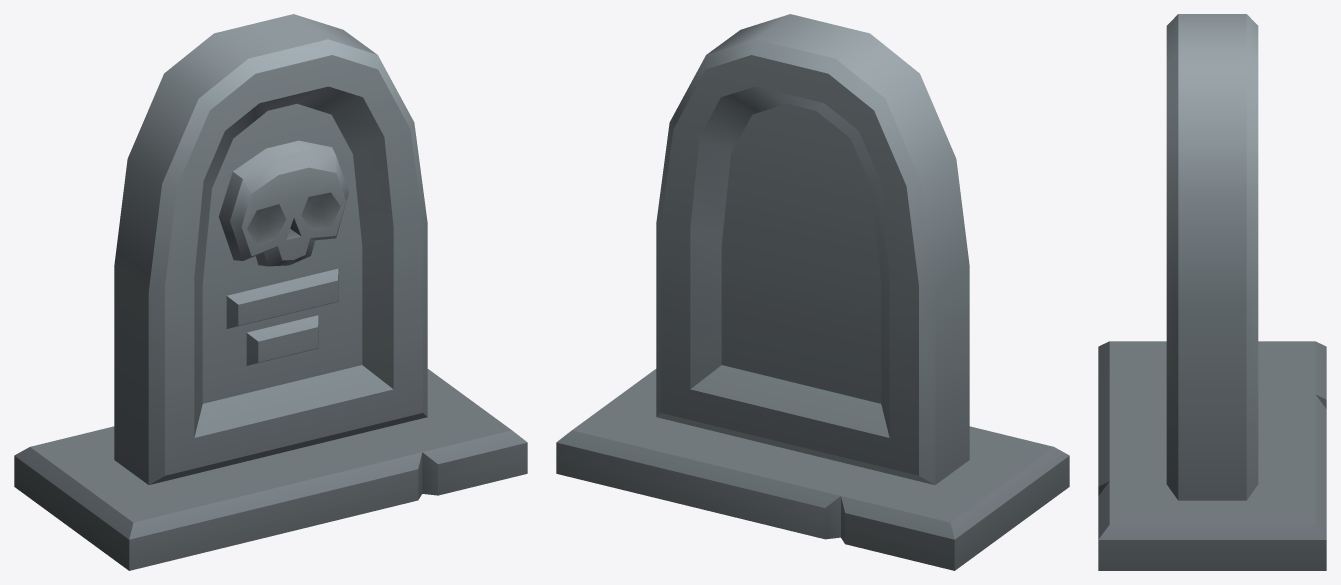
File: d_kaykit_tombe.glb
3 renders of one model, left to right at view 1: azimuth 30°, elevation 25°; view 2: azimuth 150°, elevation 25°; view 3: azimuth 270°, elevation 25°, orthographic.
Visible parts, largest first — view 1: d_kaykit_tombe; view 2: d_kaykit_tombe; view 3: d_kaykit_tombe.
Boxes of the visible parts, box(x1,y1,x2,y2) form: d_kaykit_tombe: box(14, 14, 527, 570); d_kaykit_tombe: box(556, 14, 1069, 570); d_kaykit_tombe: box(1098, 14, 1326, 570).
Bounding box in the file's own units: 2 × 2.13 × 0.9999.
1 material, 1 textured.
